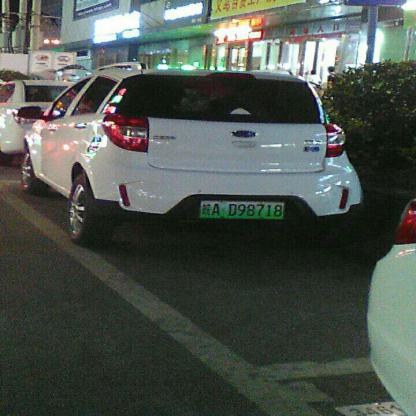lp: (198, 198, 287, 220)
